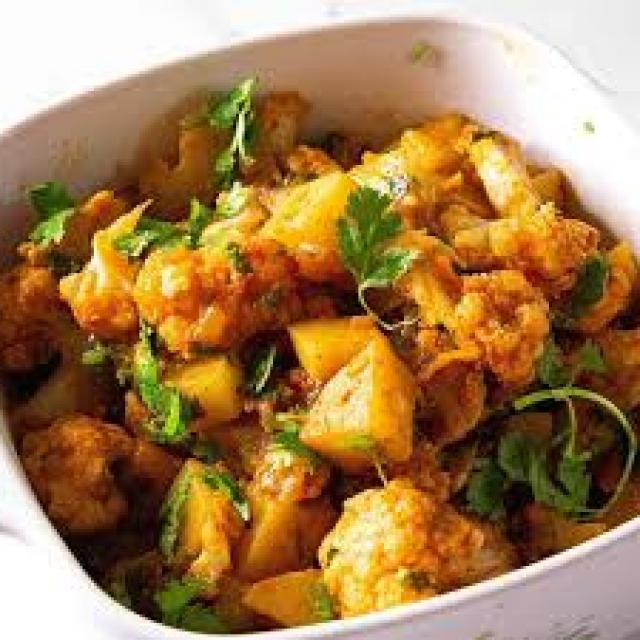Aloo Gobi: (156, 136, 606, 489)
